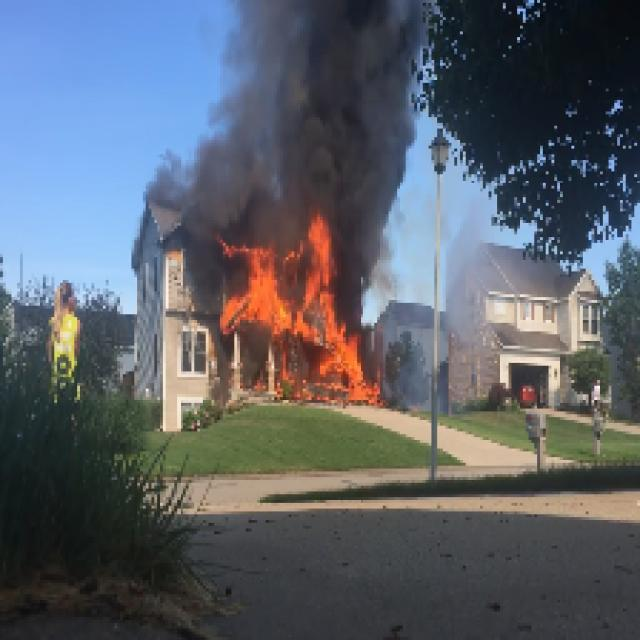Fire: (232, 248, 331, 334), (321, 334, 357, 384)
Smoke: (245, 1, 388, 245)
